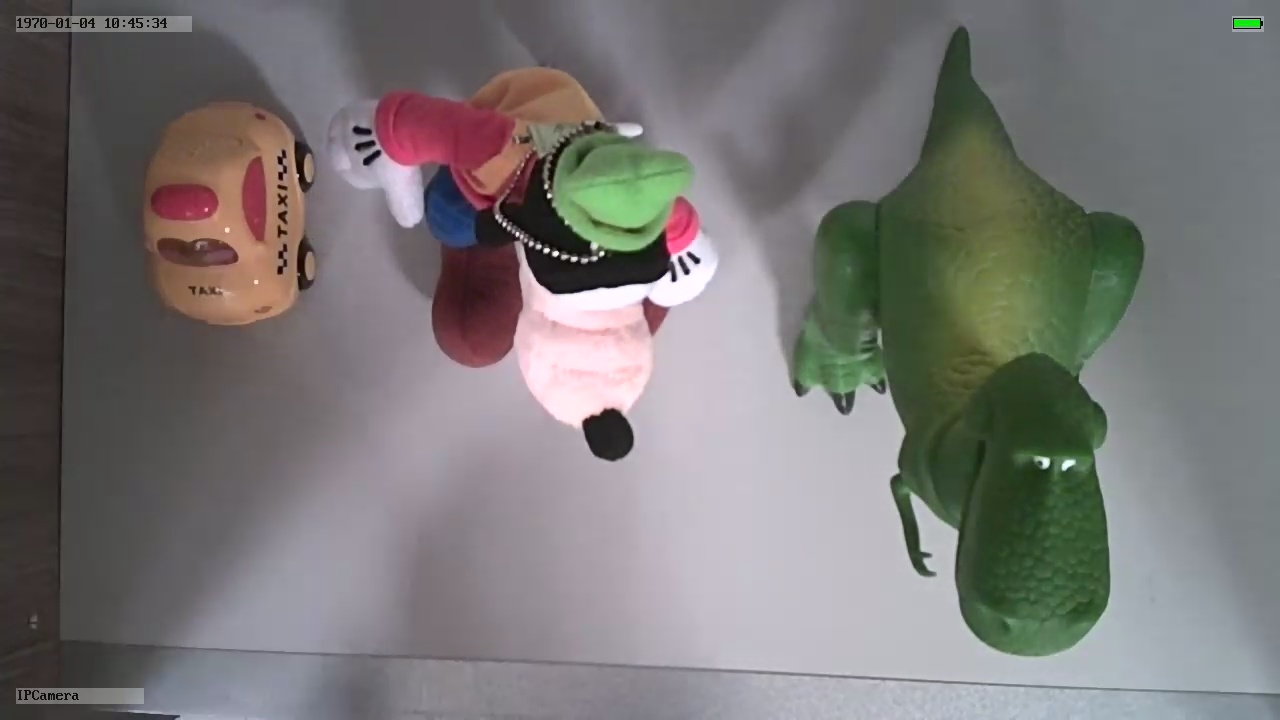car: (139, 96, 318, 330)
goofy: (331, 66, 718, 462)
rex: (787, 92, 1143, 659)
